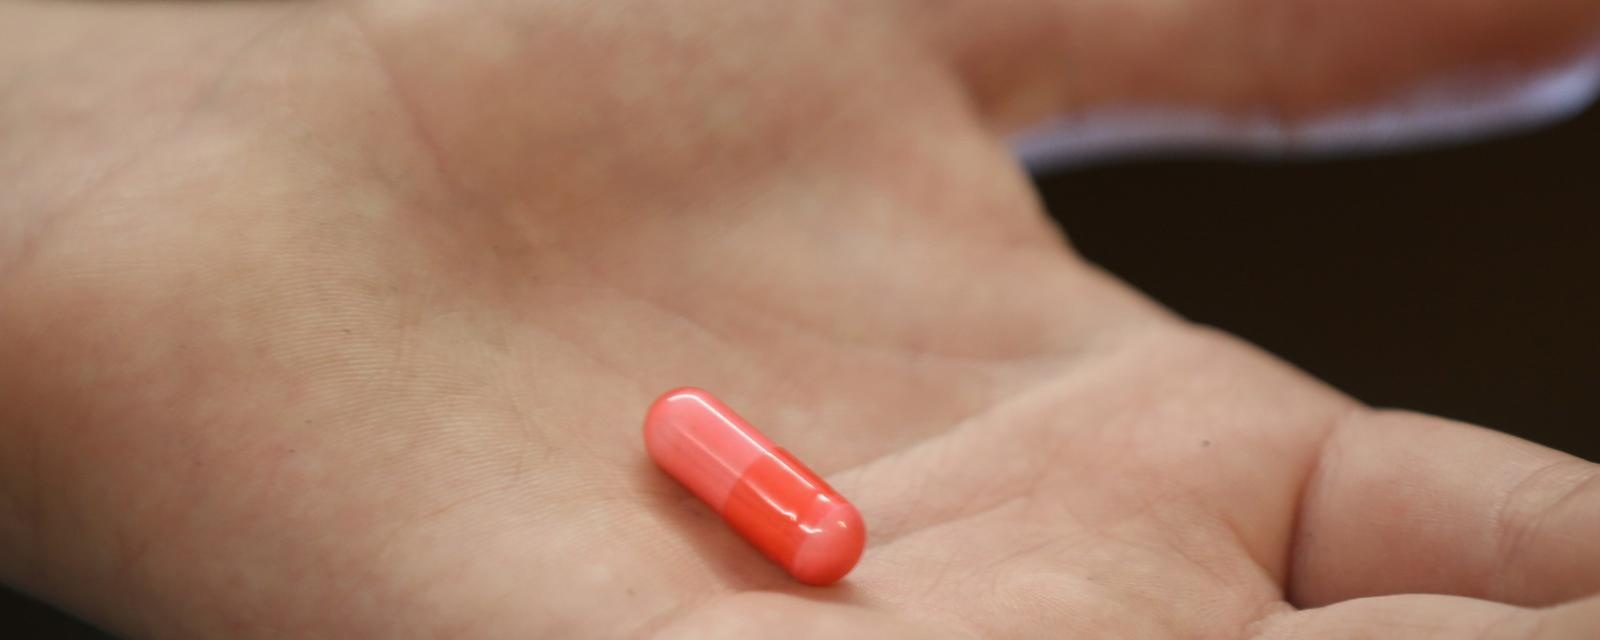pills: (635, 383, 854, 586)
